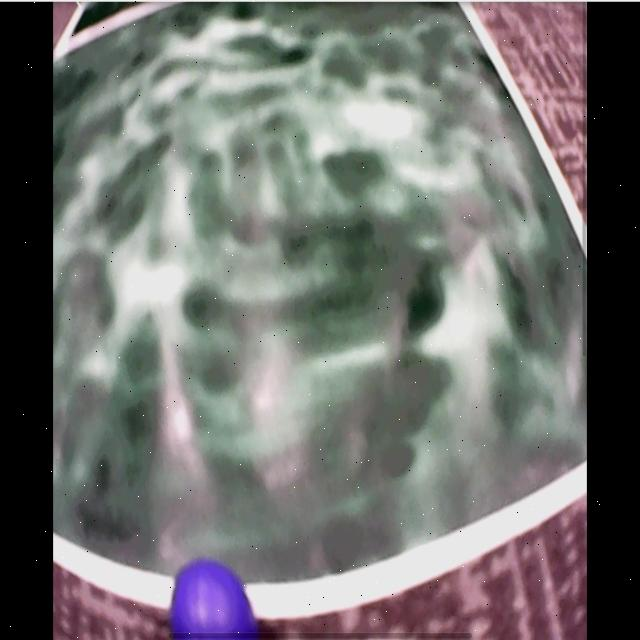ball: (170, 561, 260, 637)
